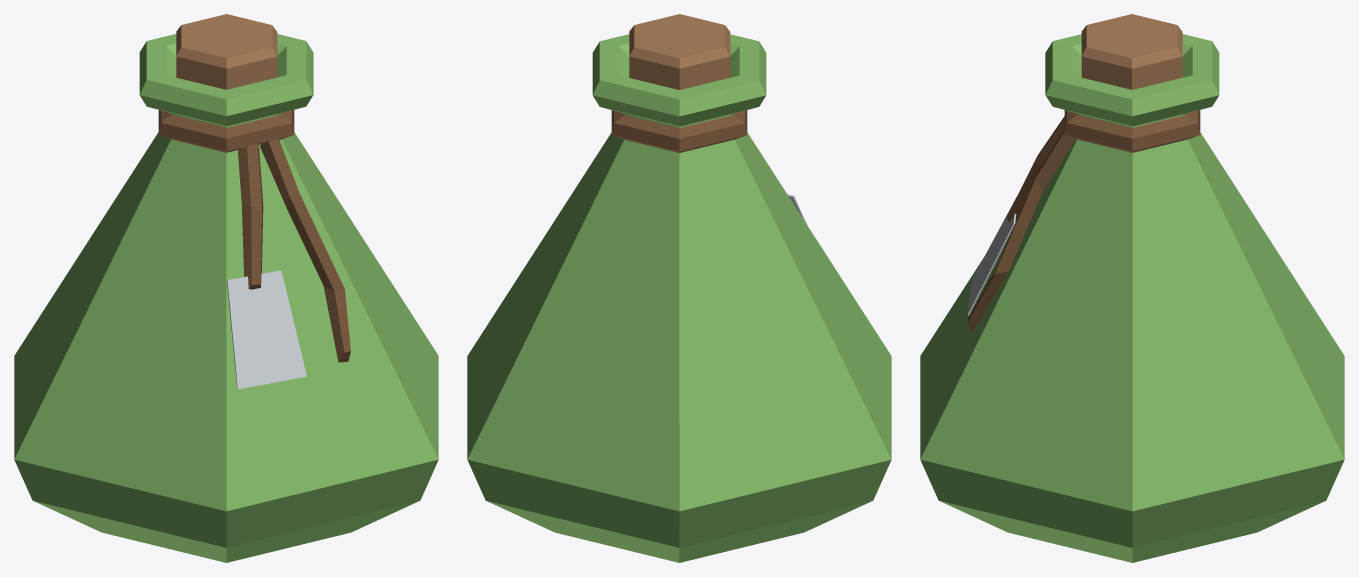
The model's file is Green_Potion_6(String+Label).fbx.
3 views of the same model, side by side, from view 1: azimuth 30°, elevation 25°; view 2: azimuth 150°, elevation 25°; view 3: azimuth 270°, elevation 25° (orthographic).
Parts seen in each view (by area): view 1: Green_Potion_6(String+Label); view 2: Green_Potion_6(String+Label); view 3: Green_Potion_6(String+Label).
Boxes of the visible parts, box(x1,y1,x2,y2) form: Green_Potion_6(String+Label): box(14, 14, 438, 562); Green_Potion_6(String+Label): box(467, 14, 891, 562); Green_Potion_6(String+Label): box(920, 14, 1344, 562).
Bounding box in the file's own units: 20.22 × 21.21 × 17.51.
